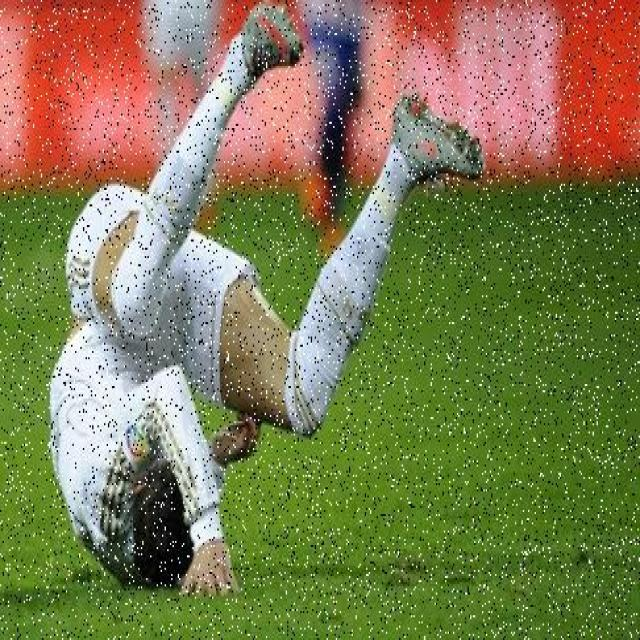fall: (50, 82, 441, 574)
